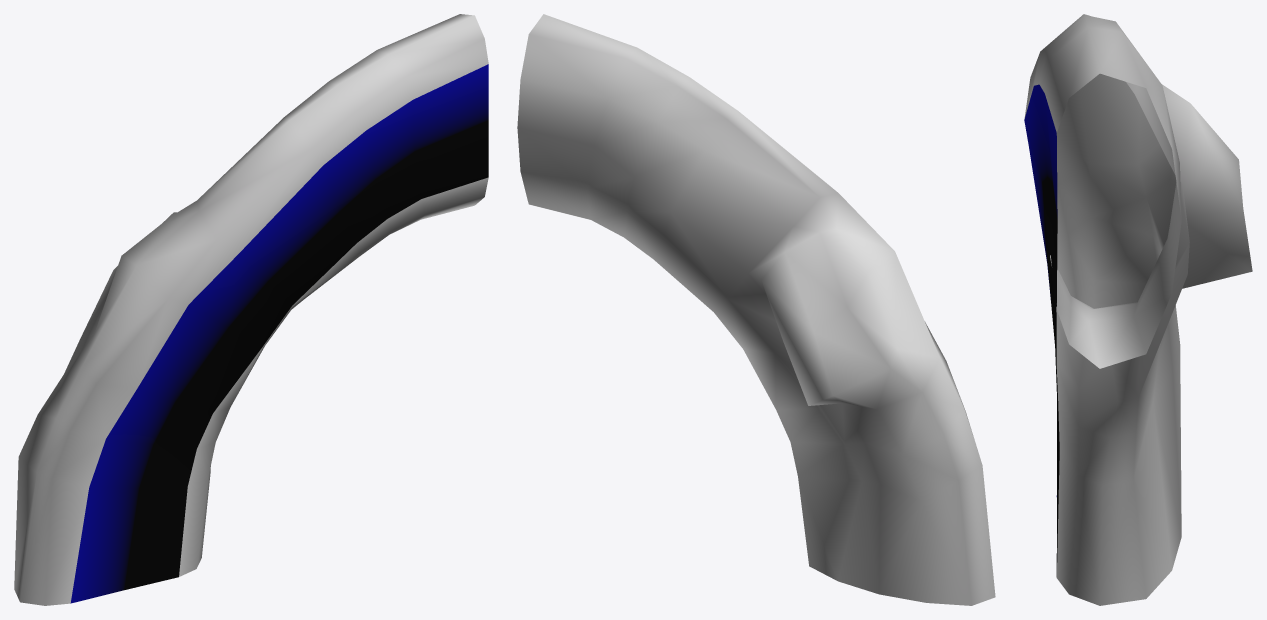
File: Volcano_BridgeCurveA.glb
The picture shows the model from 3 angles, left to right: view 1: azimuth 30°, elevation 25°; view 2: azimuth 150°, elevation 25°; view 3: azimuth 270°, elevation 25°; orthographic projection. The views are drawn at different scales.
Visible parts, largest first — view 1: MeshNode_0, MeshNode_1; view 2: MeshNode_0; view 3: MeshNode_0, MeshNode_1.
Part boxes in pixels (x1,y1,x2,y2): MeshNode_0: (14,14,488,605); MeshNode_1: (70,64,488,603); MeshNode_0: (517,14,995,605); MeshNode_0: (1024,14,1252,605); MeshNode_1: (1024,84,1059,576).
Size of the model in its own units: 79.98 by 79.98 by 22.38.
